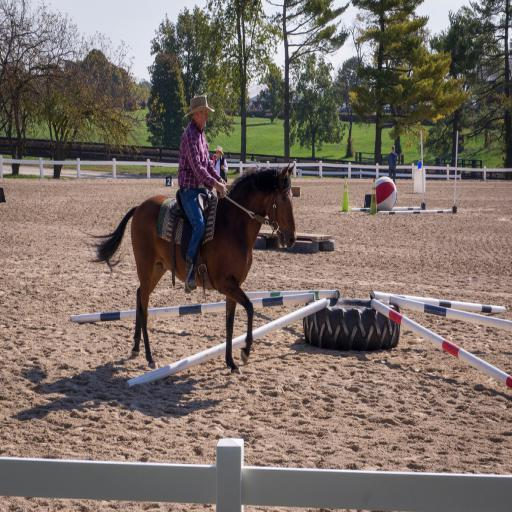Horse: (81, 162, 299, 376)
